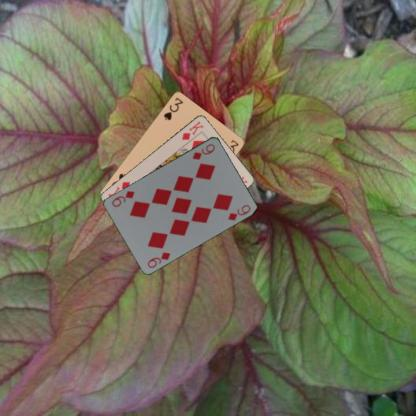3s: (161, 95, 184, 121)
9d: (144, 249, 172, 269), (190, 141, 216, 161)
Kd: (179, 118, 205, 141)
